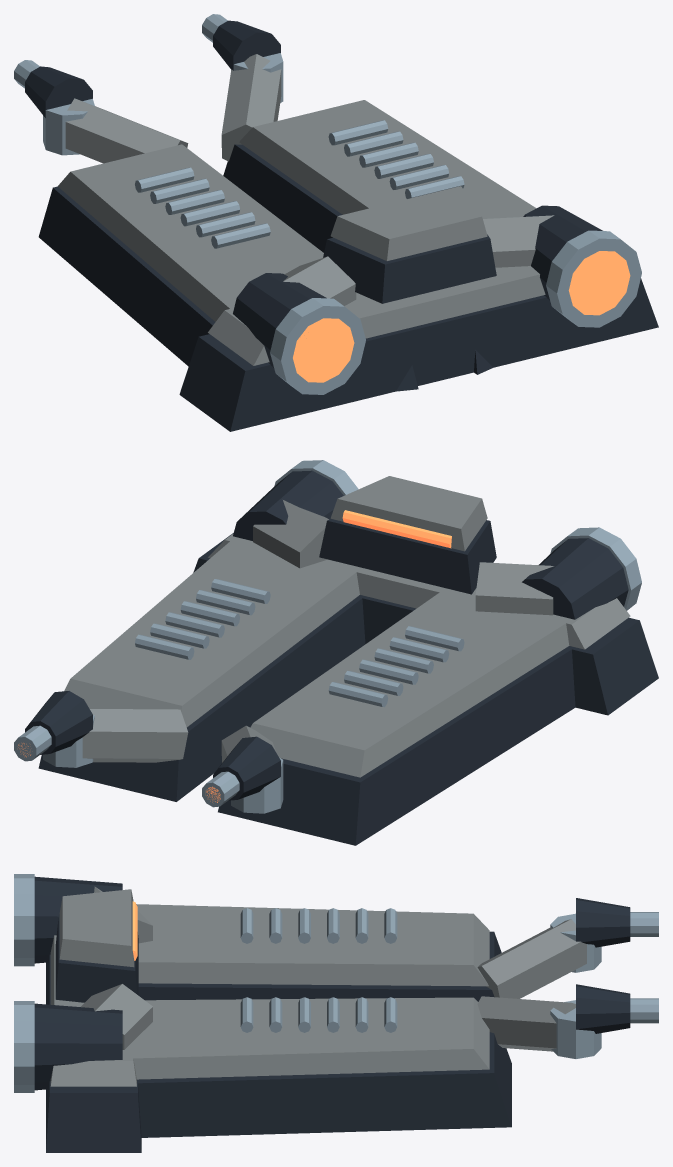
The model's file is c3_miniHive.glb.
The picture shows the model from 3 angles, top to bottom: view 1: azimuth 30°, elevation 25°; view 2: azimuth 150°, elevation 25°; view 3: azimuth 270°, elevation 25°; orthographic projection. The views are drawn at different scales.
Visible parts, largest first — view 1: miniHive / Armor, miniHive / Chassis, miniHive / Titanium, miniHive / Energy; view 2: miniHive / Armor, miniHive / Chassis, miniHive / Titanium, miniHive / Energy; view 3: miniHive / Armor, miniHive / Chassis, miniHive / Titanium.
Part boxes in pixels (x1,y1,x2,y2): miniHive / Armor: (57,54,554,365); miniHive / Chassis: (25,20,658,431); miniHive / Titanium: (14,14,641,394); miniHive / Energy: (293,251,630,382); miniHive / Armor: (64,476,630,777); miniHive / Chassis: (25,470,658,845); miniHive / Titanium: (14,460,641,813); miniHive / Energy: (18,510,451,802); miniHive / Armor: (50,886,586,1086); miniHive / Chassis: (34,876,630,1152); miniHive / Titanium: (14,874,658,1092).
Bounding box in the file's own units: 1.46 × 0.473 × 2.02.
